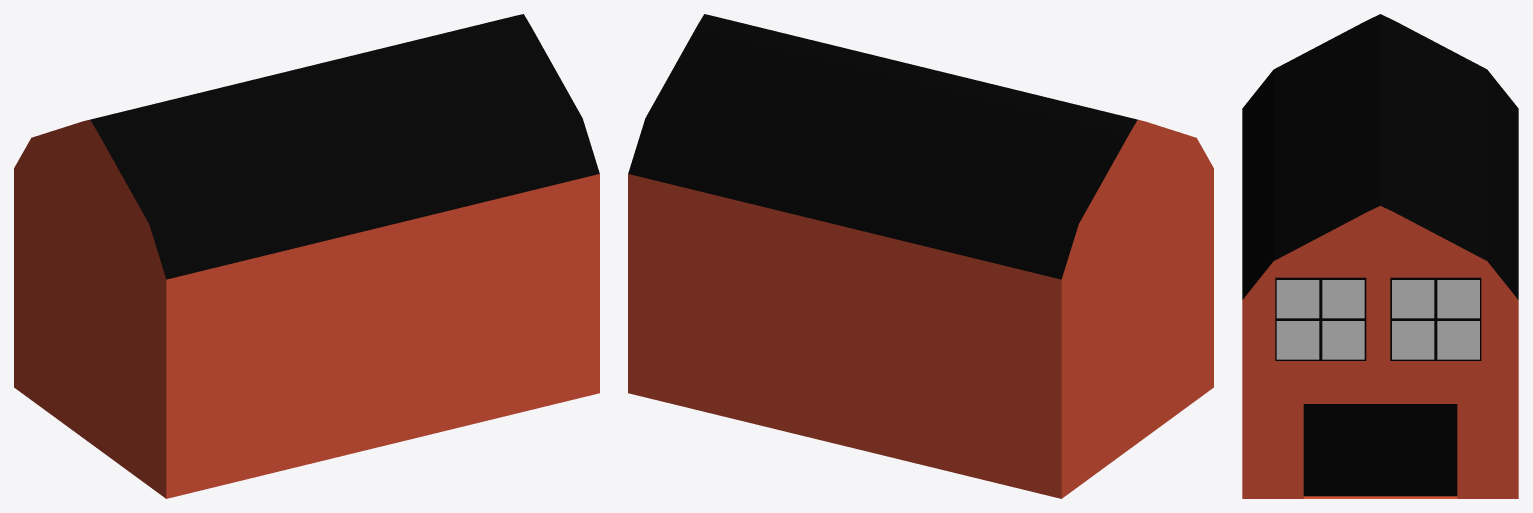
Rendered from Granero1.fbx.
3 renders of one model, left to right at view 1: azimuth 30°, elevation 25°; view 2: azimuth 150°, elevation 25°; view 3: azimuth 270°, elevation 25°, orthographic. The views are drawn at different scales.
Parts seen in each view (by area): view 1: Cube.012; view 2: Cube.012; view 3: Cube.012, Window Base.002, Window Base.003.
Part boxes in pixels (bbox=[...]): Cube.012: bbox=[14, 14, 599, 498]; Cube.012: bbox=[628, 14, 1213, 498]; Cube.012: bbox=[1242, 14, 1518, 498]; Window Base.002: bbox=[1275, 277, 1366, 360]; Window Base.003: bbox=[1390, 277, 1481, 360].
Size of the model in its own units: 374 by 265 by 226.
